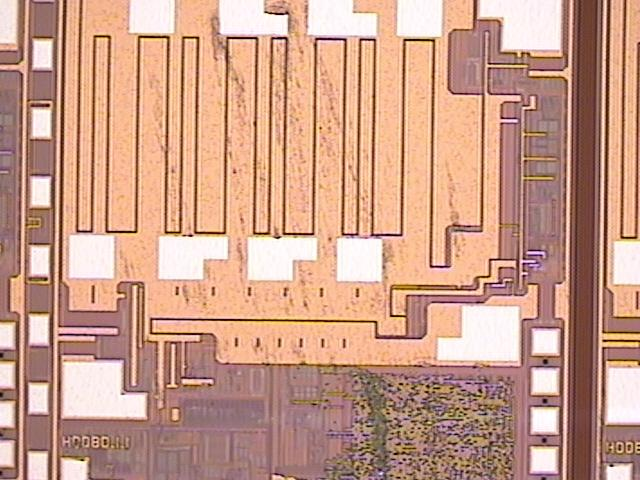SCRATCH: (110, 1, 492, 432)
